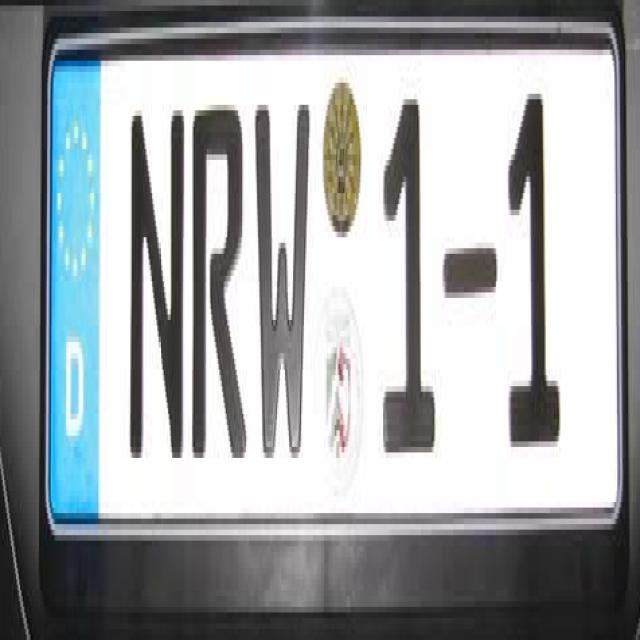Allemagne: (50, 56, 100, 518)
EU: (45, 19, 615, 509)
